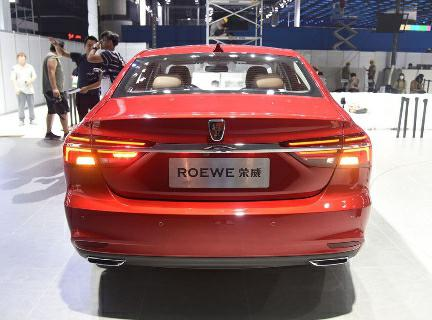荣威-RX5: (56, 41, 380, 280)
